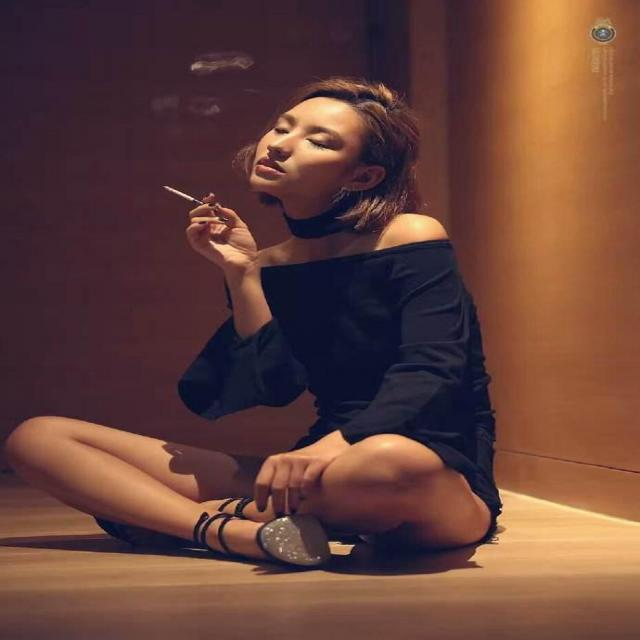smoke: (155, 176, 228, 223)
